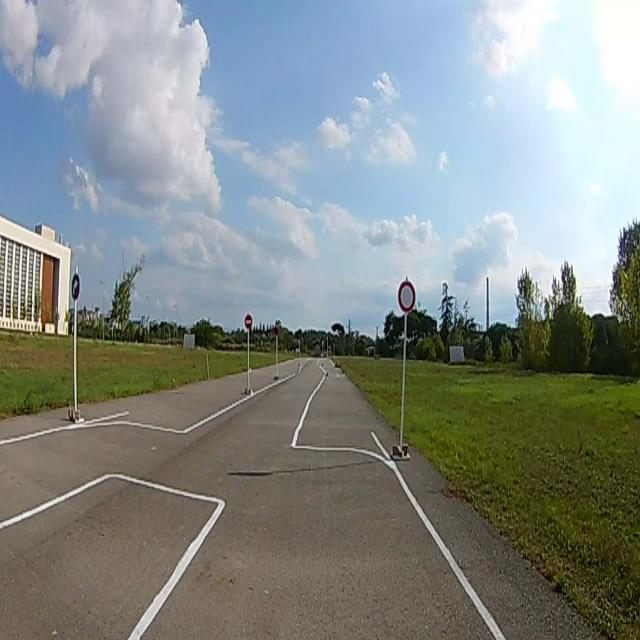girisyok: (244, 315, 252, 329)
sag: (71, 274, 80, 298)
